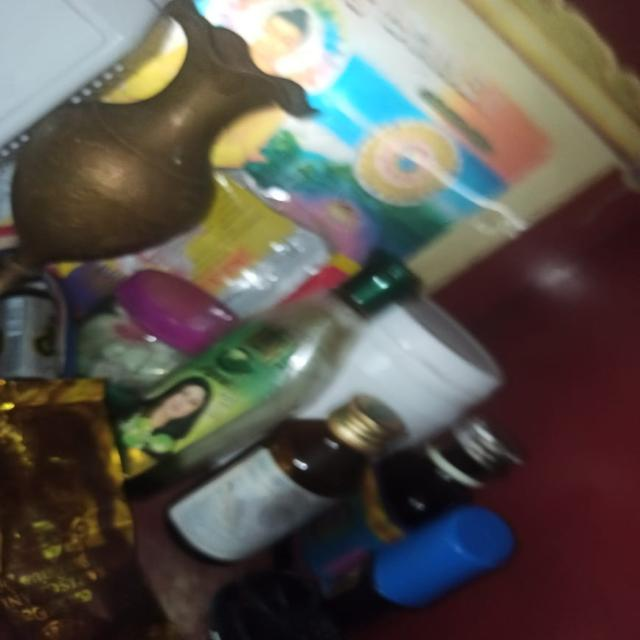Harischandra Coffee: (0, 349, 203, 640)
